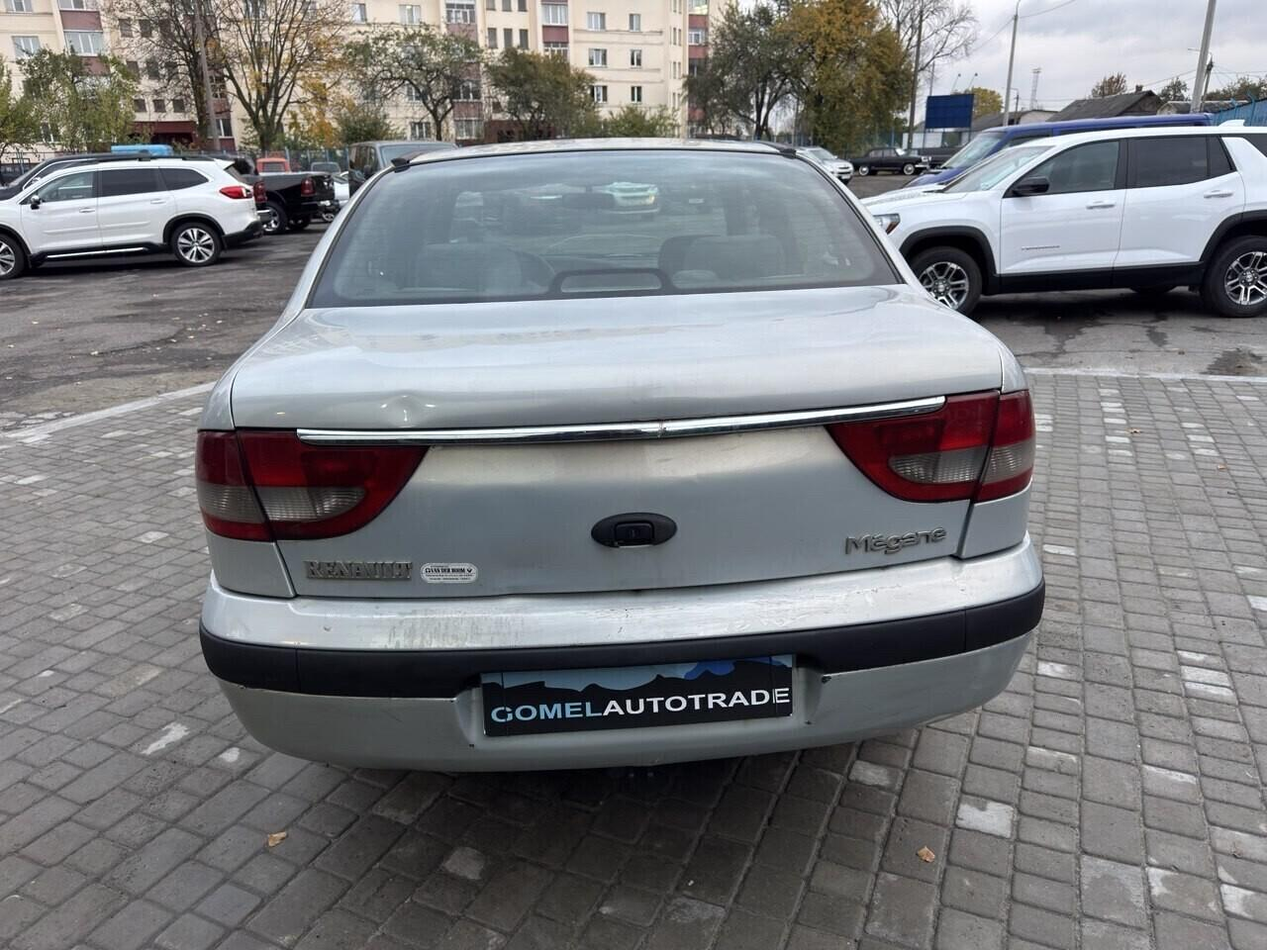Megane_1999-2003: (191, 135, 1049, 774)
